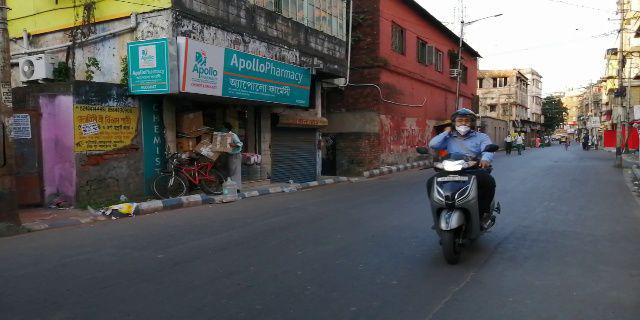Cycle: (147, 149, 229, 197)
Motorbike: (411, 106, 503, 263)
